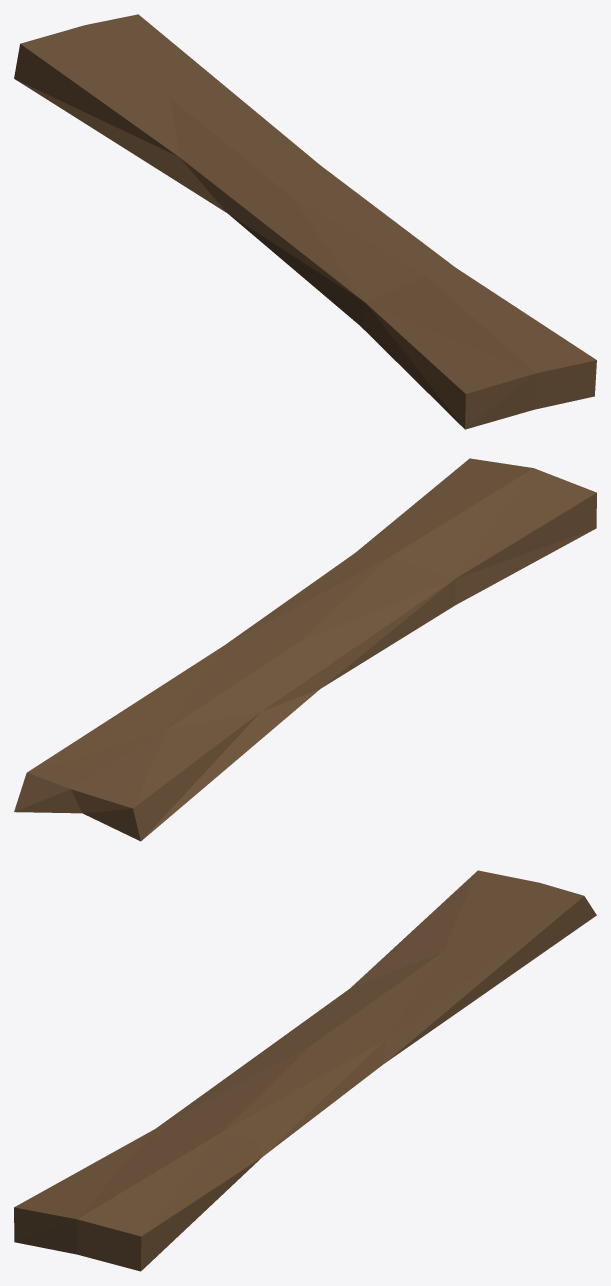
The model's file is Desk_02.fbx.
3 views of the same model, one above another, from view 1: azimuth 30°, elevation 25°; view 2: azimuth 150°, elevation 25°; view 3: azimuth 330°, elevation 25° (orthographic).
Parts seen in each view (by area): view 1: Desk_02; view 2: Desk_02; view 3: Desk_02.
Part boxes in pixels (bbox=[...]): Desk_02: bbox=[14, 14, 596, 429]; Desk_02: bbox=[14, 458, 596, 841]; Desk_02: bbox=[14, 870, 596, 1271].
Bounding box in the file's own units: 0.4353 × 0.1657 × 2.72.
